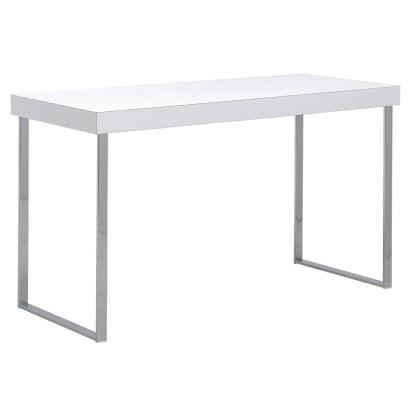table: (3, 71, 408, 342)
